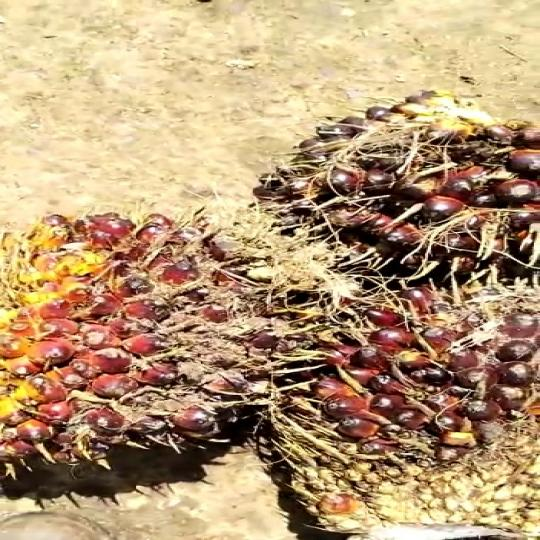kurang masak: (0, 190, 301, 494), (256, 262, 540, 534), (240, 83, 540, 282)
